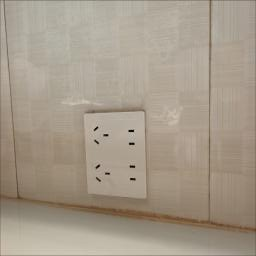outlet: (78, 112, 148, 199)
